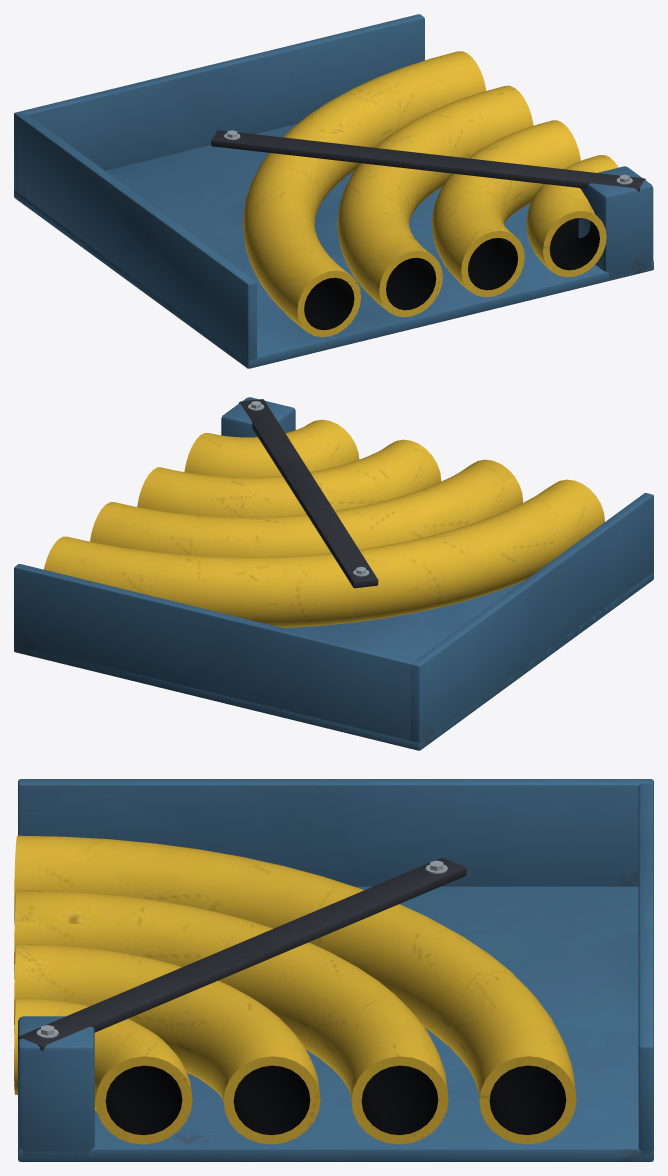
The model's file is tubes_corner.glb.
The picture shows the model from 3 angles, top to bottom: view 1: azimuth 30°, elevation 25°; view 2: azimuth 150°, elevation 25°; view 3: azimuth 270°, elevation 25°; orthographic projection. The views are drawn at different scales.
Visible parts, largest first — view 1: Body.001; view 2: Body.001; view 3: Body.001.
Part boxes in pixels (x1,y1,x2,y2): Body.001: (14,14,653,368); Body.001: (14,397,653,750); Body.001: (14,779,653,1161).
Size of the model in its own units: 0.5001 by 0.1053 by 0.5001.
5 materials, 4 textured.
